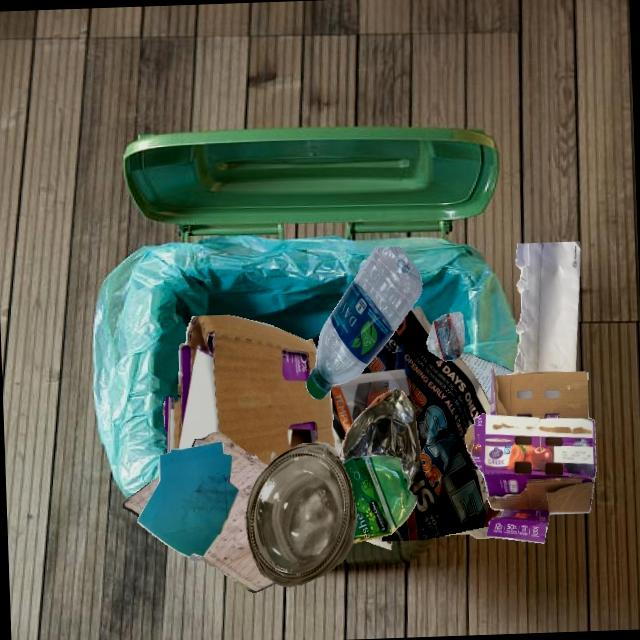cardboard: (162, 314, 335, 465), (464, 366, 596, 543)
glass: (244, 441, 357, 586), (443, 525, 490, 538)
metal: (338, 388, 419, 483)
paper: (330, 305, 503, 541), (191, 431, 275, 592), (137, 441, 239, 557), (511, 241, 581, 374), (459, 352, 514, 404), (364, 536, 392, 549), (333, 439, 340, 455)
plastic: (305, 246, 422, 399), (342, 455, 416, 543), (426, 311, 465, 361), (189, 554, 202, 561)
